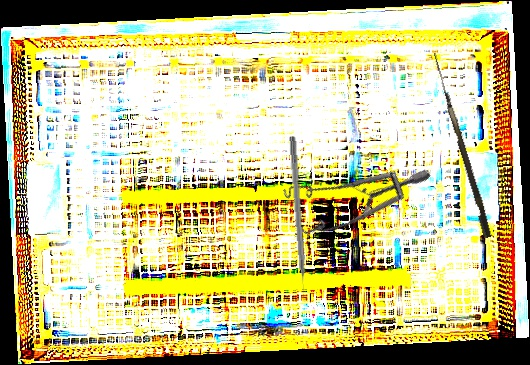Hook Surgical: (425, 52, 495, 239)
Pusher: (287, 135, 308, 304)
Speculum: (266, 108, 432, 273)
